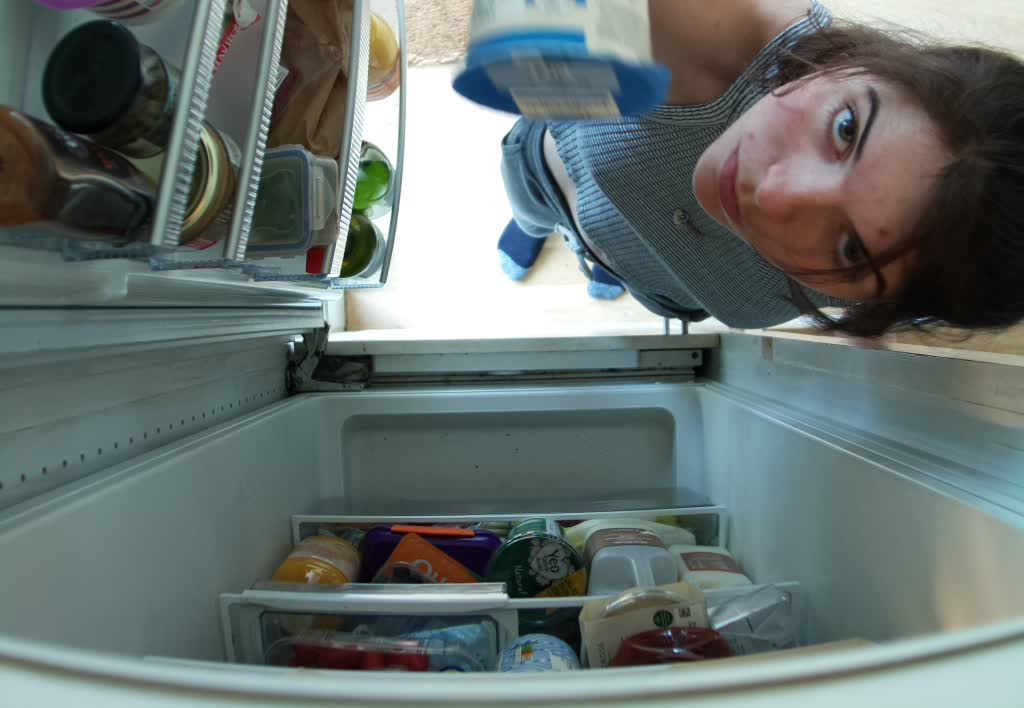cream: (452, 1, 675, 122)
